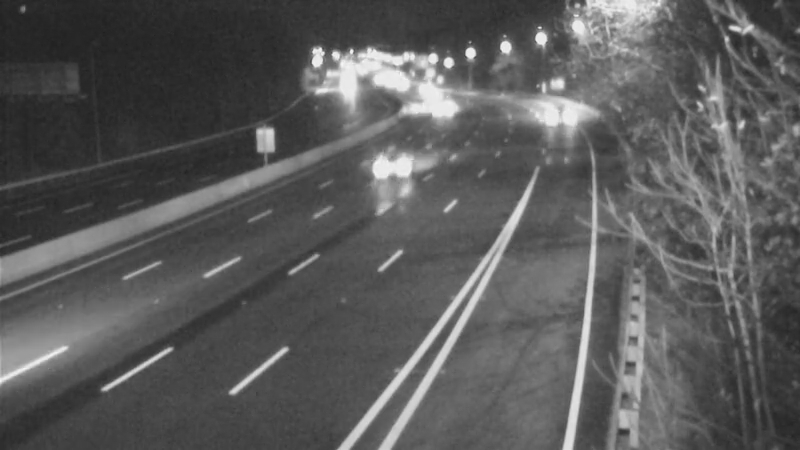vehicle: (349, 130, 429, 210), (409, 67, 459, 117), (419, 85, 469, 135), (525, 87, 575, 137), (392, 80, 442, 130)
